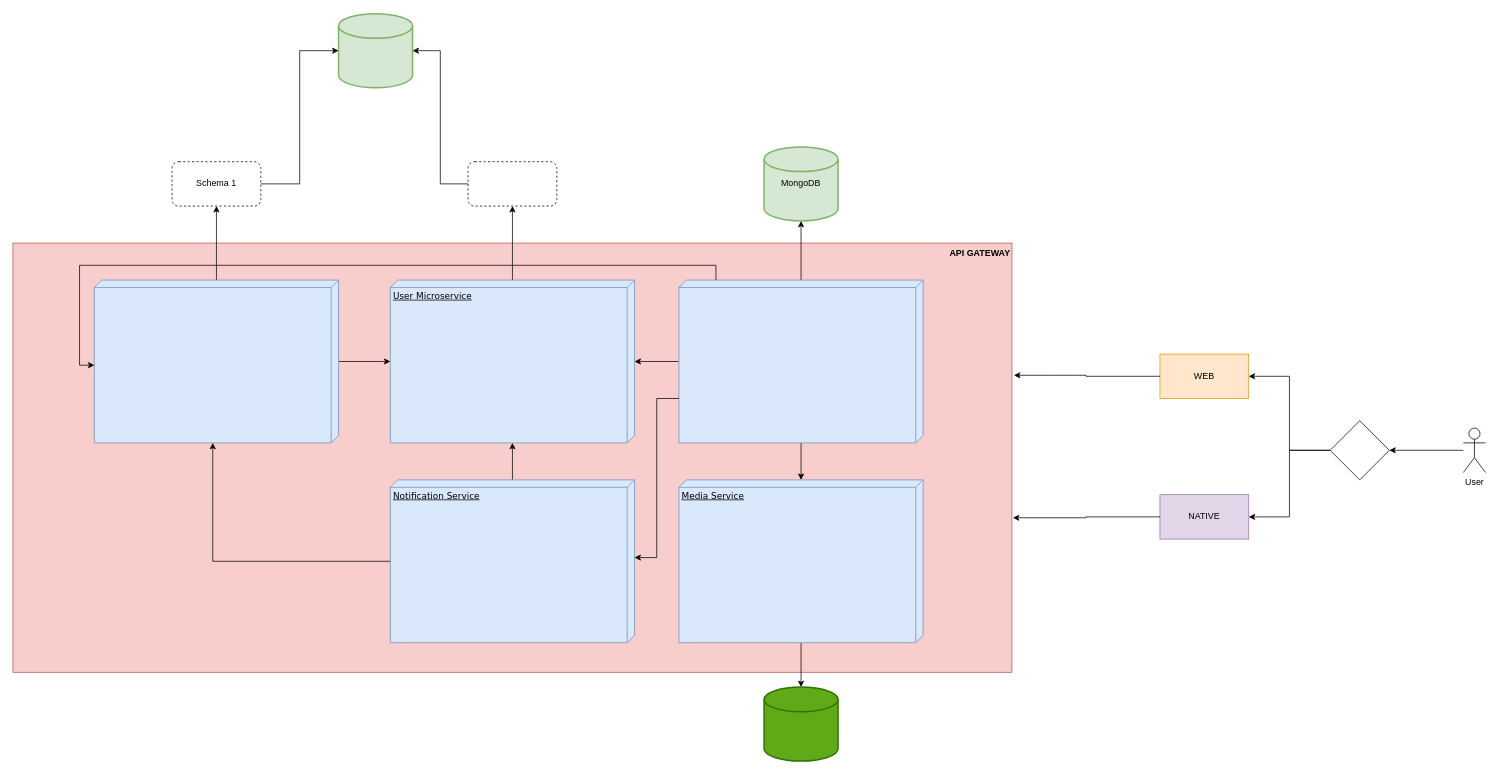
The diagram is 1499 pixels wide and 774 high, and some of its shapes have lost their labels. The shapes that lost their labels are listed below. From the top down, each one's box as (x1, y1, x2, y2) in pixels, then its label:
(337, 13, 413, 88): PostgreSQL
(467, 161, 557, 206): Schema 2
(94, 279, 339, 443): Contact Service
(678, 279, 923, 443): Chat Service
(763, 686, 838, 761): S3
